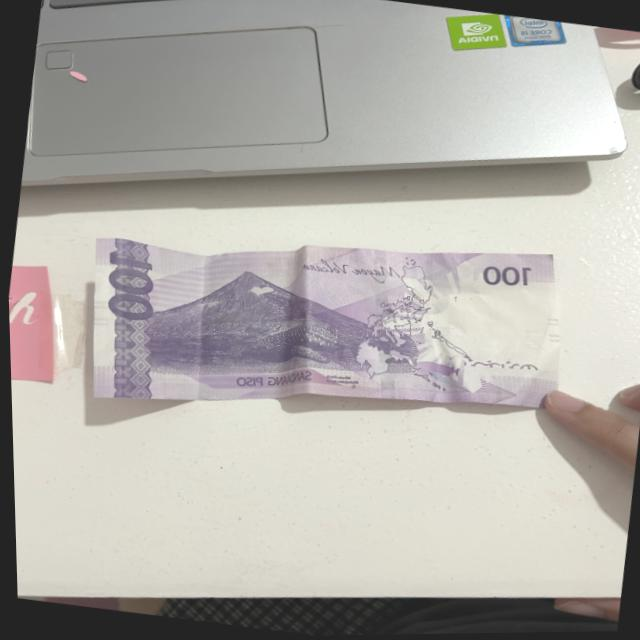100_whale: (235, 314, 363, 378)
100_whale_watermark: (402, 359, 458, 382)
value_watermark: (517, 328, 544, 358)
